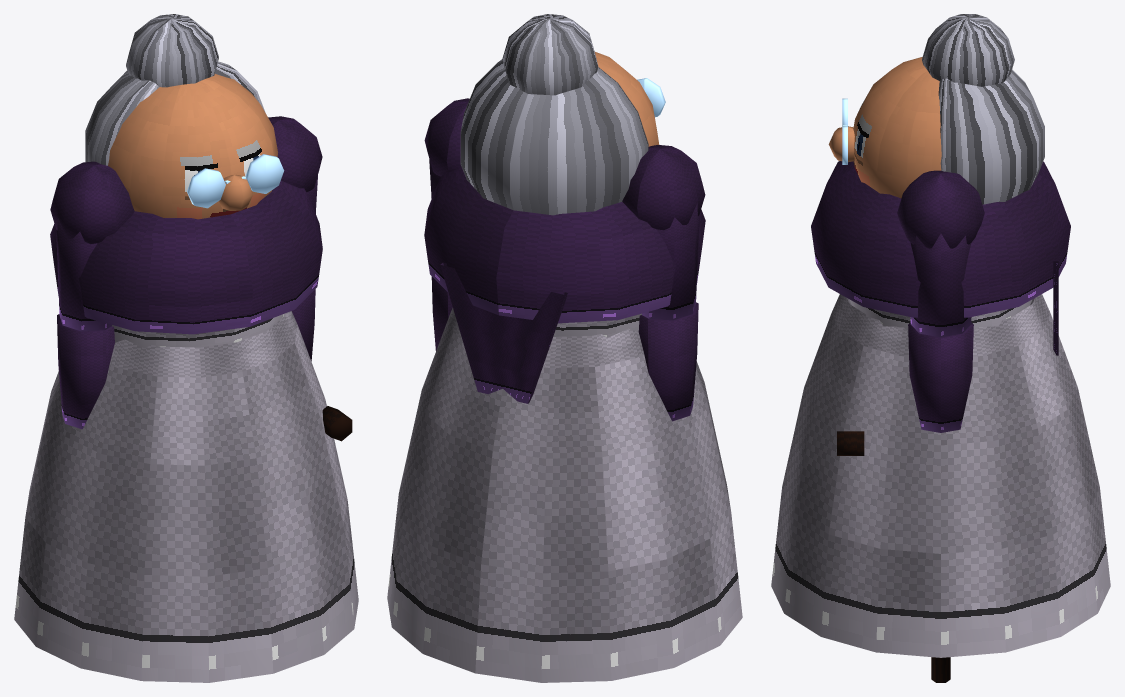
The model's file is npc_oma.glb.
3 renders of one model, left to right at view 1: azimuth 30°, elevation 25°; view 2: azimuth 150°, elevation 25°; view 3: azimuth 270°, elevation 25°, orthographic. The views are drawn at different scales.
Visible parts, largest first — view 1: skirt, shawl, head, bun, shoulder-1, fore-1, hairB, upper-1, shoulder1, top, lens-1, lens1 (+3 smaller); view 2: skirt, shawl, hairB, shawlTip, bun, shoulder-1, fore-1, upper-1, shoulder1, head, top, fore1 (+1 smaller); view 3: skirt, shawl, hairB, head, fore1, bun, shoulder1, upper1, top, caneTop, nose, shawlTip.
Part boxes in pixels (left/top/right/bottom): skirt: left=14, top=311, right=358, bottom=682; shawl: left=50, top=180, right=322, bottom=334; head: left=108, top=74, right=277, bottom=219; bun: left=126, top=14, right=218, bottom=87; shoulder-1: left=50, top=161, right=134, bottom=244; fore-1: left=57, top=314, right=114, bottom=429; hairB: left=85, top=61, right=265, bottom=165; upper-1: left=55, top=218, right=111, bottom=331; shoulder1: left=268, top=116, right=322, bottom=191; top: left=112, top=313, right=286, bottom=348; lens-1: left=187, top=168, right=225, bottom=208; lens1: left=245, top=154, right=284, bottom=193; skirt: left=387, top=308, right=742, bottom=682; shawl: left=424, top=167, right=705, bottom=323; hairB: left=460, top=59, right=648, bottom=215; shawlTip: left=440, top=262, right=568, bottom=403; bun: left=502, top=14, right=598, bottom=95; shoulder-1: left=622, top=145, right=705, bottom=230; fore-1: left=638, top=302, right=698, bottom=421; upper-1: left=642, top=203, right=699, bottom=320; shoulder1: left=424, top=98, right=469, bottom=176; head: left=595, top=52, right=659, bottom=146; top: left=553, top=313, right=641, bottom=337; fore1: left=431, top=276, right=452, bottom=350; skirt: left=771, top=294, right=1110, bottom=657; shawl: left=811, top=161, right=1070, bottom=317; hairB: left=938, top=69, right=1044, bottom=204; head: left=853, top=57, right=941, bottom=198; fore1: left=908, top=322, right=973, bottom=432; bun: left=922, top=14, right=1014, bottom=86; shoulder1: left=897, top=170, right=984, bottom=248; upper1: left=910, top=233, right=971, bottom=337; top: left=849, top=299, right=1032, bottom=330; caneTop: left=837, top=431, right=864, bottom=455; nose: left=828, top=126, right=854, bottom=162; shawlTip: left=1053, top=261, right=1058, bottom=355.
Size of the model in its own units: 1.24 by 2.47 by 1.24.
Materials: 8 (7 with a texture image).
